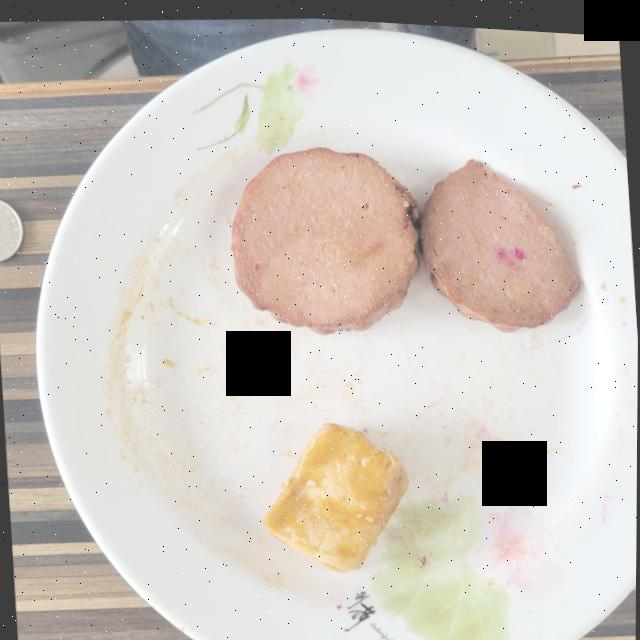Spam: (230, 143, 581, 330)
coin: (0, 200, 22, 261)
creamy tofu: (263, 419, 408, 568)
